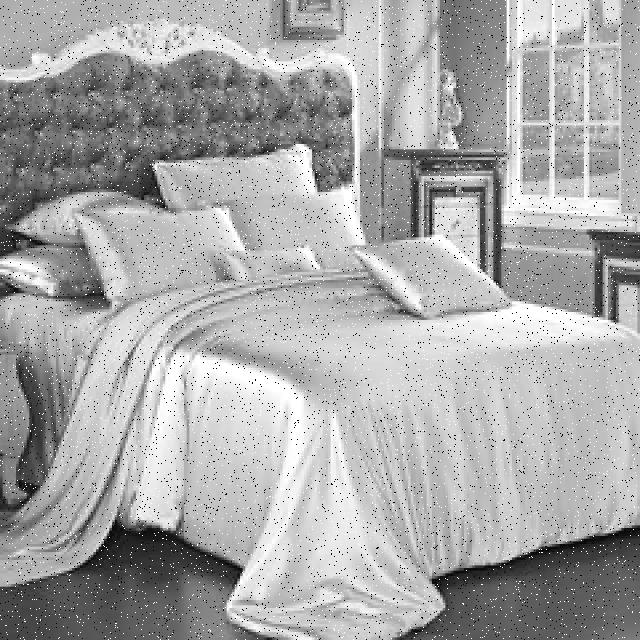bed: (11, 15, 640, 575)
